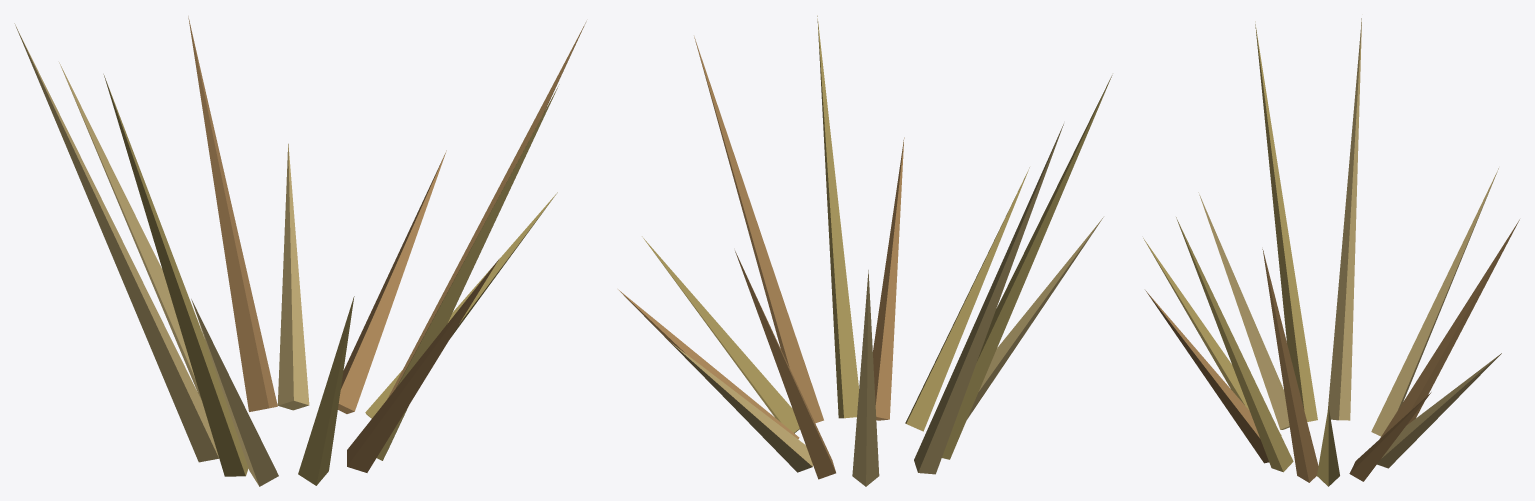
The model's file is dune-grass.glb.
3 views of the same model, side by side, from view 1: azimuth 30°, elevation 25°; view 2: azimuth 150°, elevation 25°; view 3: azimuth 270°, elevation 25° (orthographic). The views are drawn at different scales.
Parts seen in each view (by area): view 1: dune-grass; view 2: dune-grass; view 3: dune-grass.
Boxes of the visible parts, bbox=[...] form: dune-grass: bbox=[14, 16, 586, 486]; dune-grass: bbox=[618, 15, 1112, 486]; dune-grass: bbox=[1143, 18, 1519, 486].
Size of the model in its own units: 1.33 by 1.16 by 1.14.
